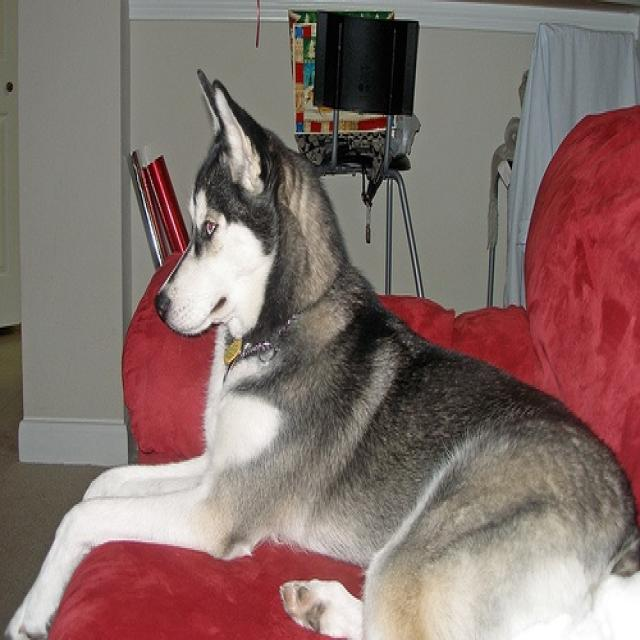dog: (4, 67, 639, 638)
